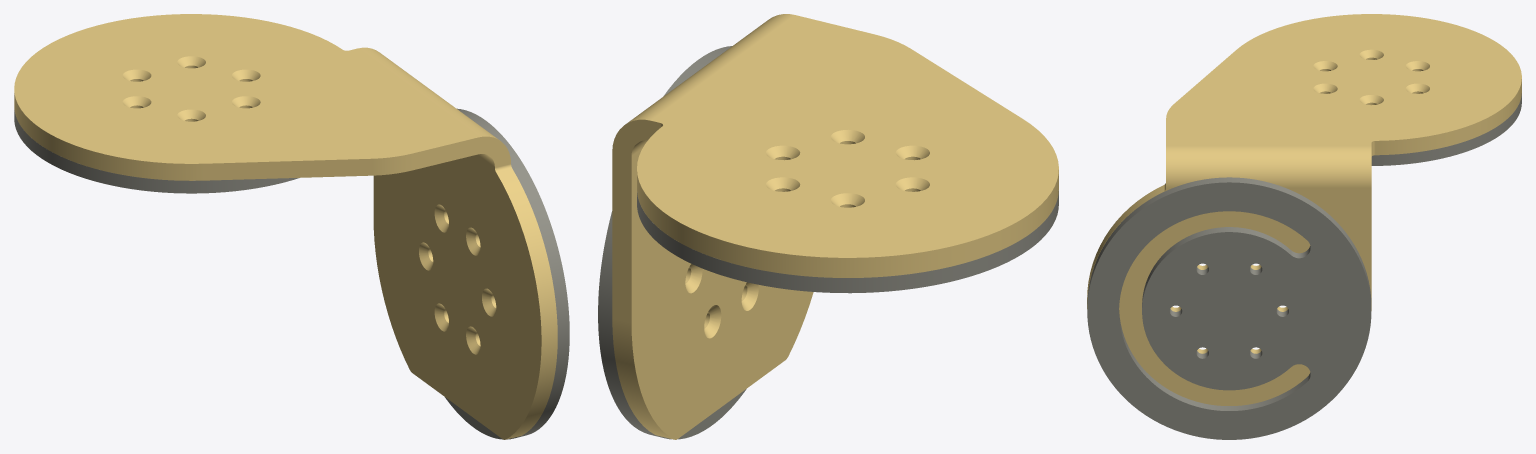
3 renders of one model, left to right at view 1: azimuth 30°, elevation 25°; view 2: azimuth 150°, elevation 25°; view 3: azimuth 270°, elevation 25°, orthographic. The views are drawn at different scales.
Parts seen in each view (by area): view 1: link4; view 2: link4; view 3: link4.
Boxes of the visible parts, left/top/right/bottom form: link4: left=14, top=14, right=569, bottom=439; link4: left=598, top=14, right=1058, bottom=439; link4: left=1087, top=14, right=1521, bottom=439.
Bounding box in the file's own units: 0.09 × 0.11 × 0.0769.
